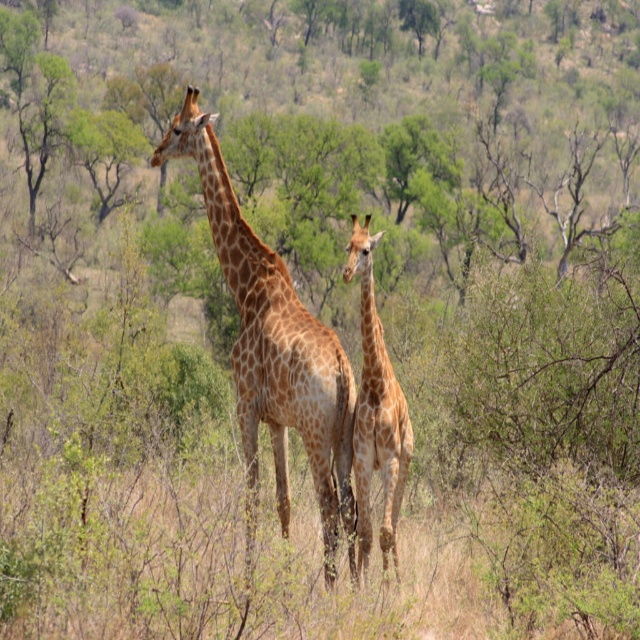Giraffe: (151, 85, 361, 591), (343, 212, 414, 600)
